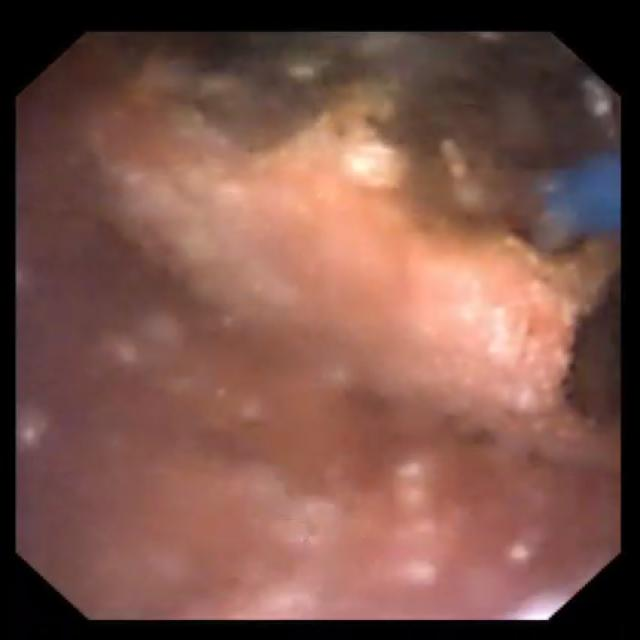fiber: (547, 157, 614, 234)
stone: (79, 56, 609, 412)
